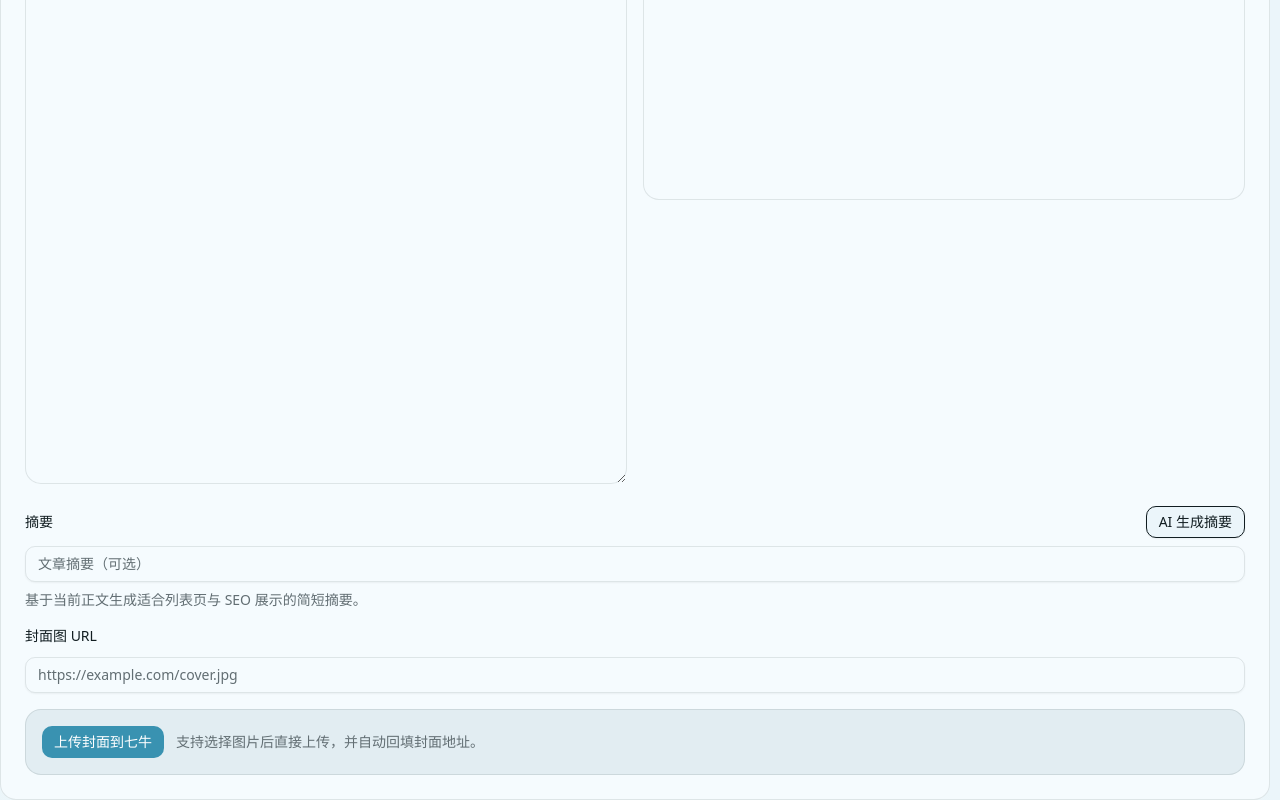
Test: editor workspace summary › shows returned error when summary request fails
(page scrolled)
Click the button "AI 生成摘要": {"x": 1195, "y": 522} top-left (1146, 506), bottom-right (1245, 538)
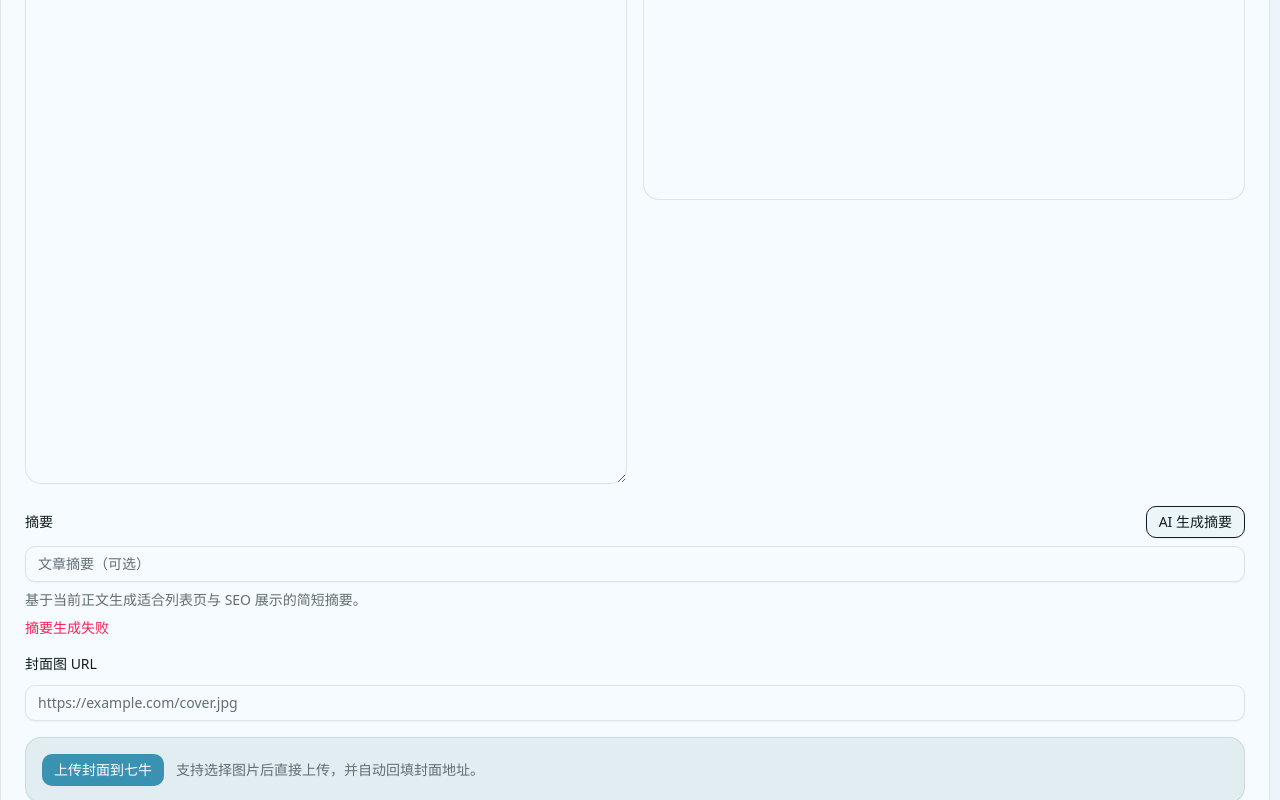
Now the text "摘要生成失败" is shown, box top-left (25, 618), bottom-right (109, 636)
